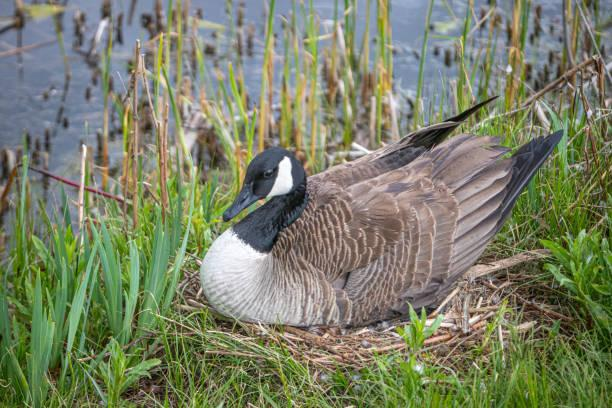Canadian-Goose: (200, 95, 561, 325)
